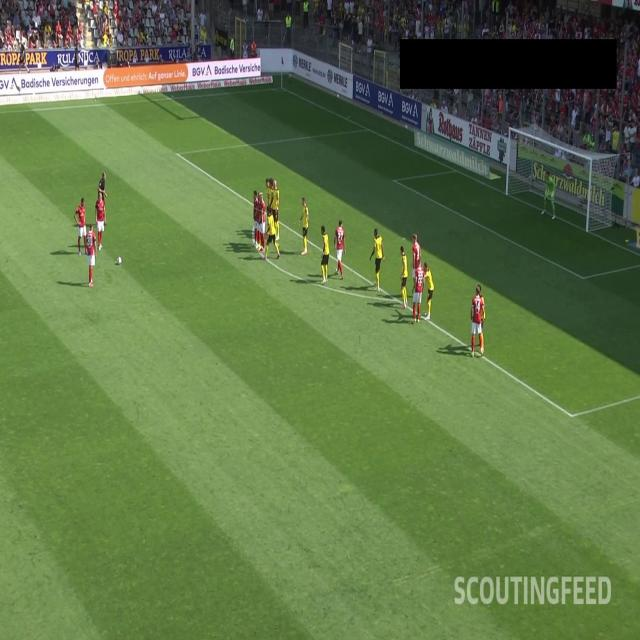ball: (115, 254, 124, 269)
player: (368, 225, 387, 294), (263, 200, 281, 262), (470, 286, 484, 361), (421, 256, 436, 324), (72, 194, 88, 256), (297, 191, 311, 260), (84, 222, 98, 288), (410, 258, 424, 324), (397, 241, 410, 312), (409, 230, 421, 304), (474, 282, 486, 353), (540, 167, 556, 220), (334, 217, 347, 280), (94, 191, 107, 253), (318, 221, 330, 284), (258, 188, 266, 254), (272, 178, 280, 243), (252, 187, 258, 251), (268, 172, 273, 245), (256, 188, 261, 253), (266, 177, 270, 234)
referee: (97, 168, 109, 232)
